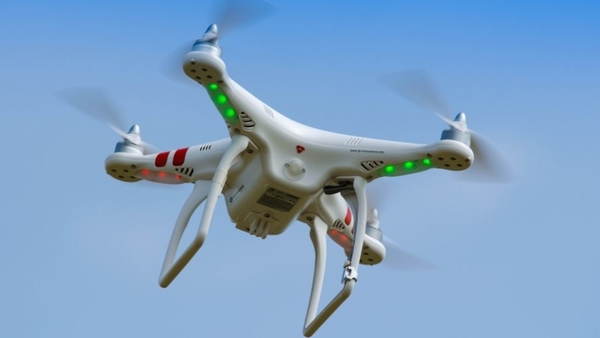drone: (57, 21, 510, 338)
